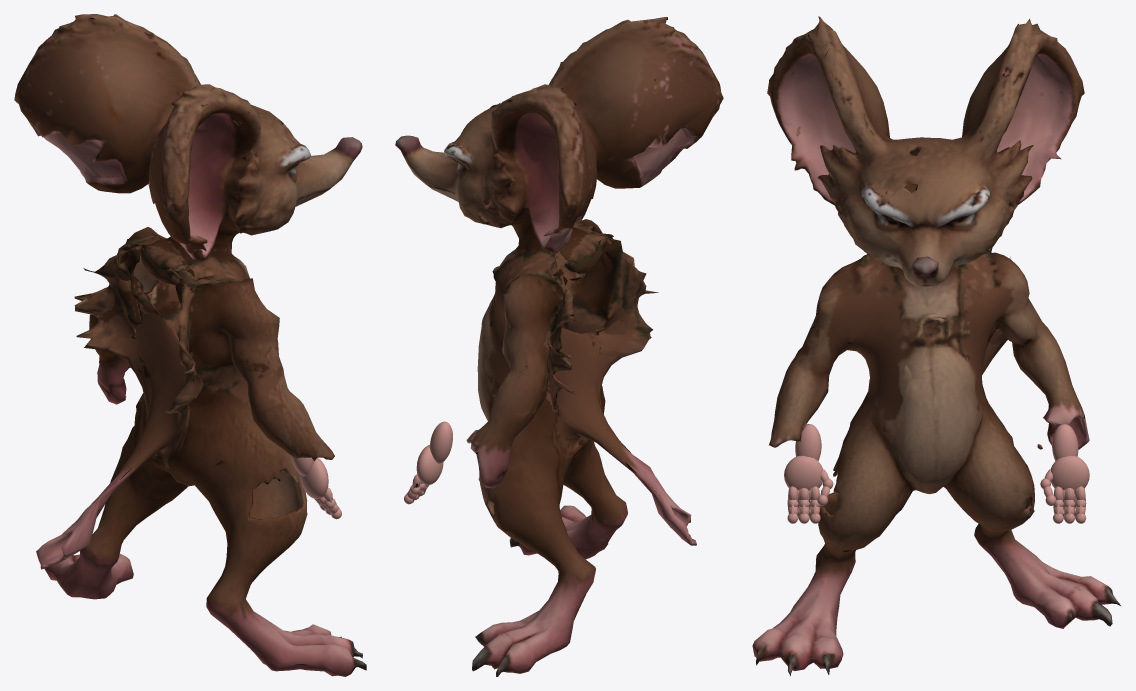
Rendered from tail_v4.glb.
The picture shows the model from 3 angles, left to right: view 1: azimuth 30°, elevation 25°; view 2: azimuth 150°, elevation 25°; view 3: azimuth 270°, elevation 25°; orthographic projection. The views are drawn at different scales.
Visible parts, largest first — view 1: Tail_V4_GAME; view 2: Tail_V4_GAME; view 3: Tail_V4_GAME.
Part boxes in pixels (x1=…): Tail_V4_GAME: x1=14, y1=14, x2=366, y2=676; Tail_V4_GAME: x1=395, y1=17, x2=723, y2=676; Tail_V4_GAME: x1=752, y1=16, x2=1120, y2=676.
Size of the model in its own units: 0.5454 by 0.98 by 0.5582.
1 material, 1 textured.
